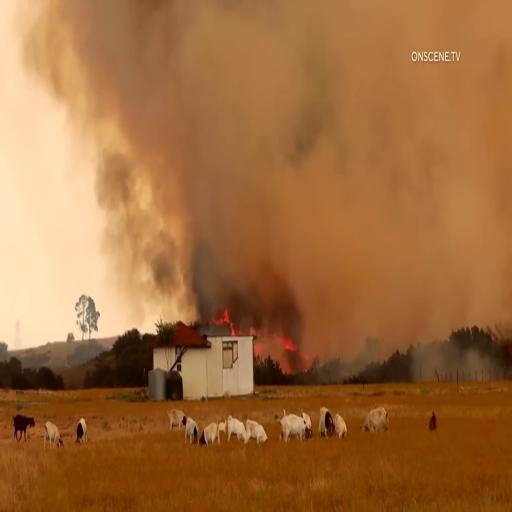smoke: (251, 58, 492, 272)
